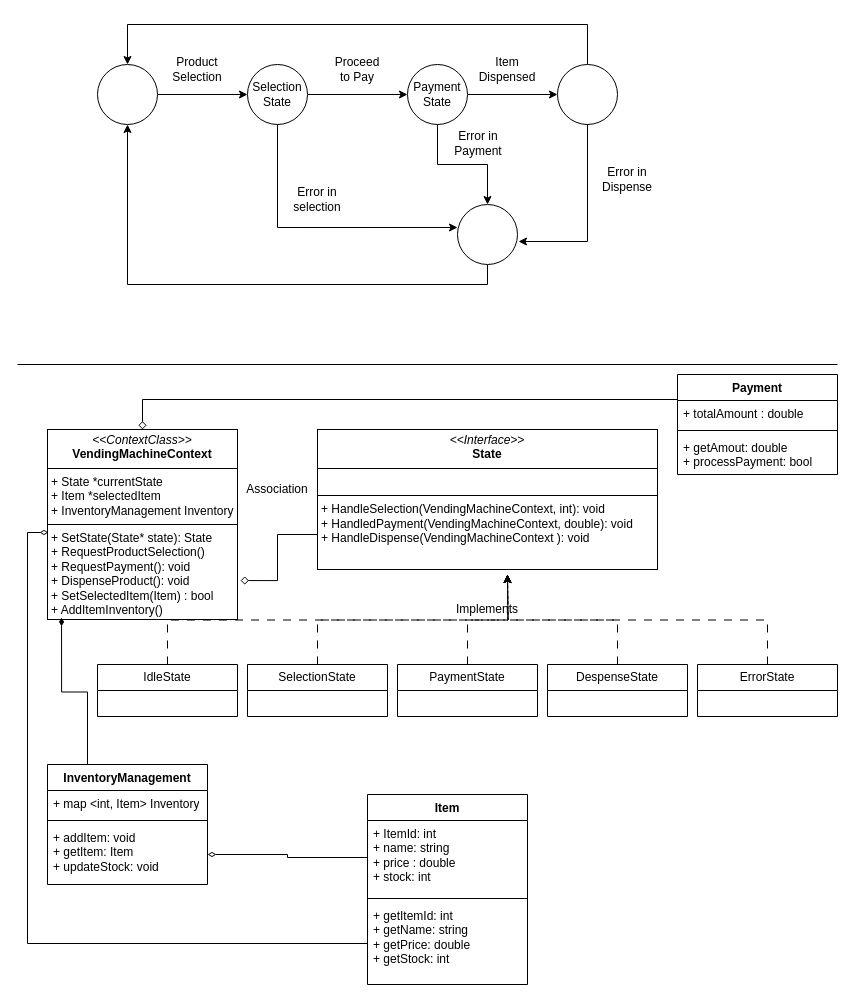
This 856x1005 diagram has some shape labels left out. Here are the shapes that lost their labels. From the top down, the centre of each, then its label:
the point at 127,94: Idle
the point at 587,94: Dispense State
the point at 487,234: Error State
